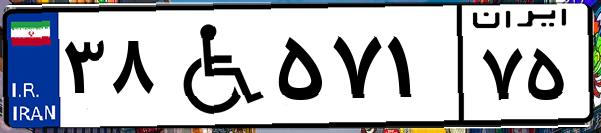1: (385, 28, 445, 110)
3: (57, 26, 110, 100)
5: (270, 28, 330, 110), (525, 38, 570, 115)
7: (330, 28, 385, 110), (475, 38, 525, 113)
8: (110, 28, 158, 98)
ژ (معلولین و جانبازان): (158, 12, 270, 120)
